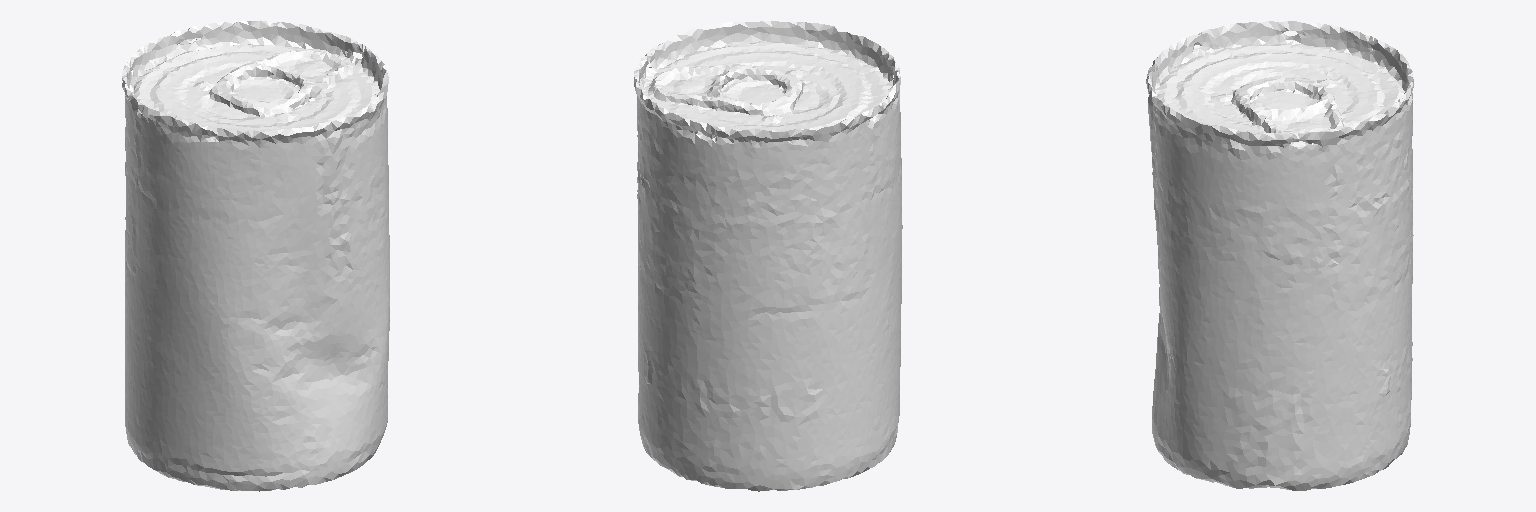
robot.urdf — model.urdf:
<?xml version="0.0" ?>
<robot name="model.urdf">
  <link name="baseLink">
    <contact>
      <friction_anchor/>
      <lateral_friction value="0.8"/>
      <rolling_friction value="0.001"/>
      <spinning_friction value="0.001"/>
      <contact_cfm value="0.0"/>
      <contact_erp value="1.0"/>
    </contact>
    <inertial>
       <origin rpy="0 0 0" xyz="0 0.0 -0.02"/>
       <mass value=".349"/>
       <inertia ixx="1e-3" ixy="0" ixz="0" iyy="1e-3" iyz="0" izz="1e-3"/>
    </inertial>
    <visual>
      <geometry>
        <mesh filename="textured_simple_reoriented.obj" scale="1 1 1"/>
      </geometry>
      <material name="white">
        <color rgba="1. 1. 1. 1."/>
      </material>
    </visual>
    <collision>
      <geometry>
    	 	<mesh filename="collision_vhacd.obj" scale="1 1 1"/>
      </geometry>
    </collision>
  </link>
</robot>

--- What the picture shows (computed from the rendered views, not written in the file) ---
Views: 3 orthographic renders of the robot side by side, from view 1: azimuth 30°, elevation 25°; view 2: azimuth 150°, elevation 25°; view 3: azimuth 270°, elevation 25°.
Model model.urdf with 1 links and 0 joints (none), rooted at baseLink, posed every joint at zero.
Links seen in each view (by area): view 1: baseLink; view 2: baseLink; view 3: baseLink.
Link boxes in pixels (x1=…): baseLink: x1=122, y1=20, x2=389, y2=491; baseLink: x1=634, y1=20, x2=902, y2=491; baseLink: x1=1146, y1=21, x2=1413, y2=490.
Size in the robot's own frame: 0.0679 by 0.0677 by 0.102 metres.
Meshes: 1 distinct files referenced, 1 mesh visuals loaded (1 OBJ).